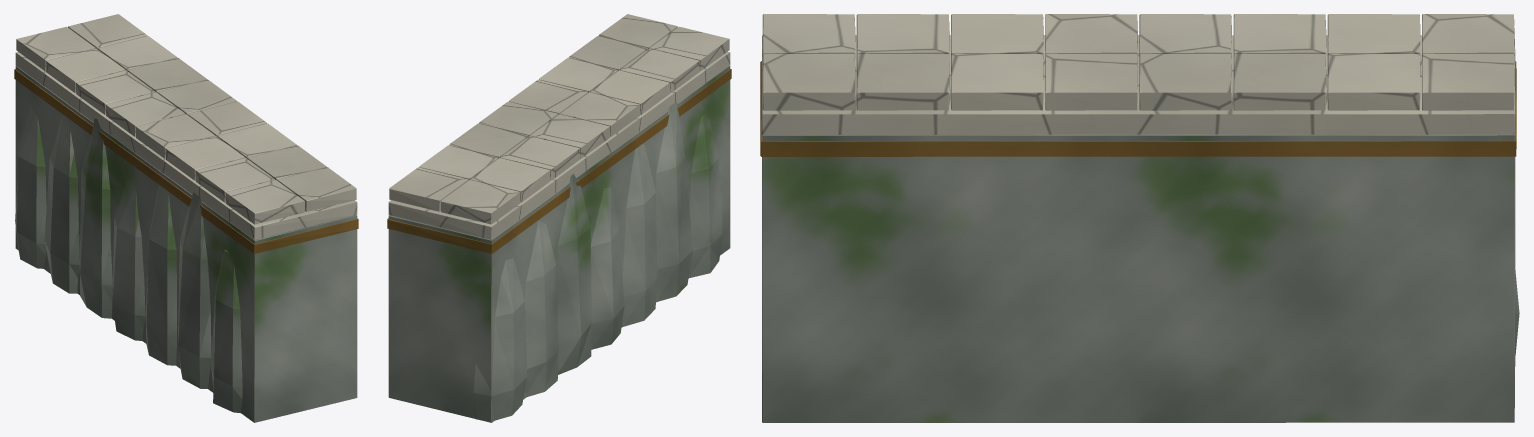
Rendered from t01_shore_straight_lod1.fbx.
3 views of the same model, side by side, from view 1: azimuth 30°, elevation 25°; view 2: azimuth 150°, elevation 25°; view 3: azimuth 270°, elevation 25° (orthographic). The views are drawn at different scales.
Parts seen in each view (by area): view 1: t01_shore_straight.005; view 2: t01_shore_straight.005; view 3: t01_shore_straight.005.
Part boxes in pixels (bbox=[...]): t01_shore_straight.005: bbox=[14, 14, 358, 422]; t01_shore_straight.005: bbox=[387, 14, 731, 422]; t01_shore_straight.005: bbox=[760, 14, 1519, 422].
Size of the model in its own units: 51586 by 14400 by 24779.
